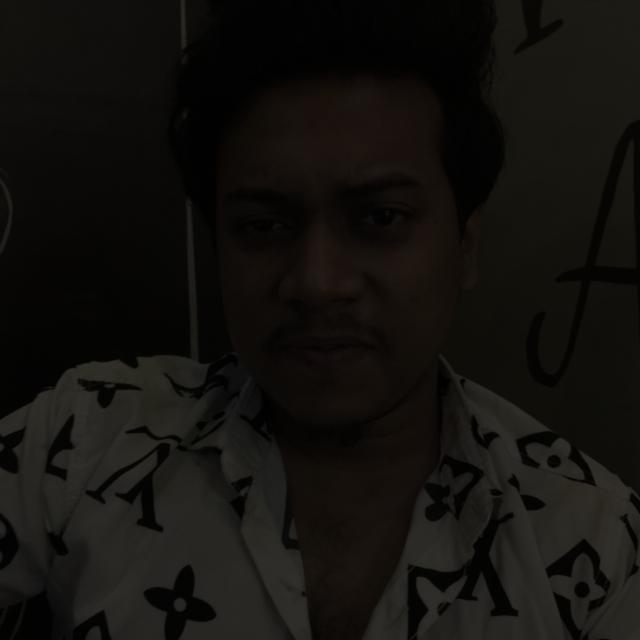Disgust: (165, 106, 510, 478)
